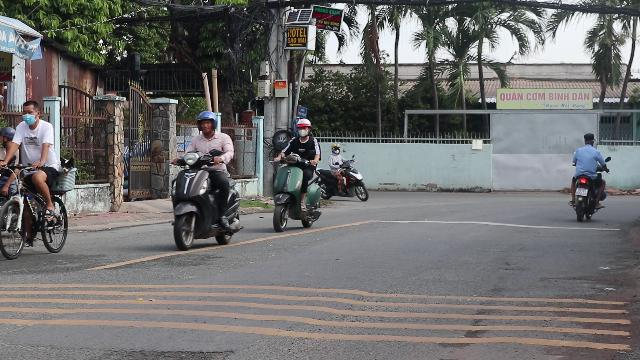helmet: (196, 110, 218, 136), (294, 118, 312, 138)
motorcyclist: (165, 110, 243, 250), (268, 116, 324, 231)
